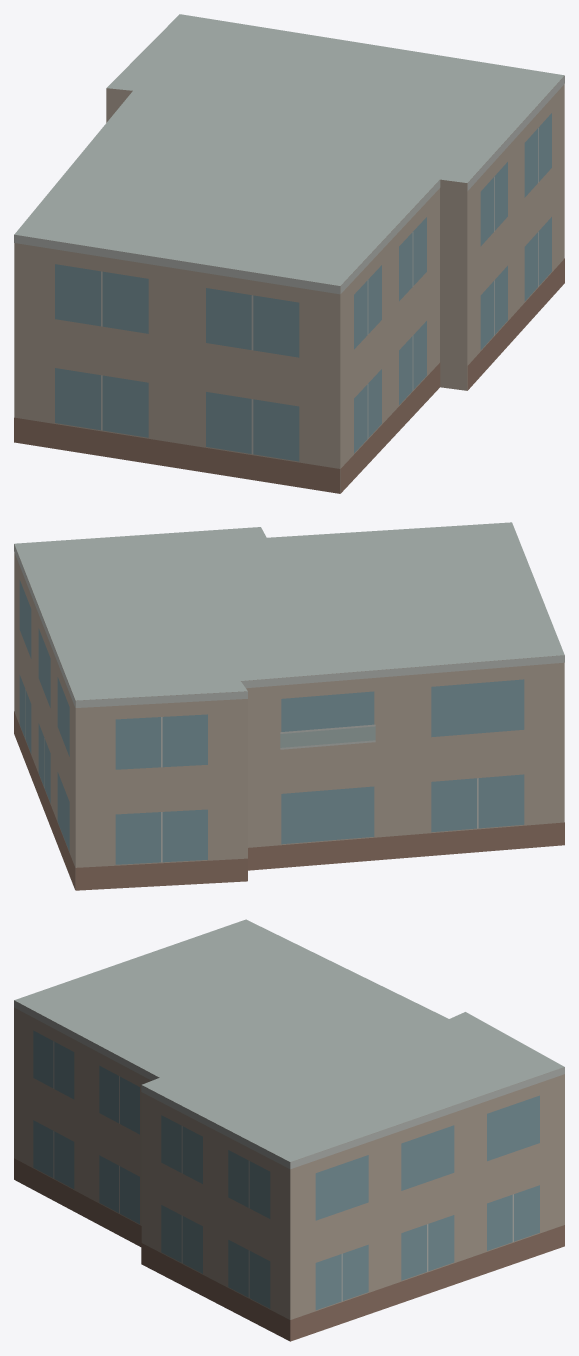
The model's file is survey-upis-32820743.glb.
The picture shows the model from 3 angles, top to bottom: view 1: azimuth 30°, elevation 25°; view 2: azimuth 150°, elevation 25°; view 3: azimuth 270°, elevation 25°; orthographic projection. The views are drawn at different scales.
Visible parts, largest first — view 1: survey-upis-32820743.tmp; view 2: survey-upis-32820743.tmp; view 3: survey-upis-32820743.tmp.
Part boxes in pixels (left/top/right/bottom): survey-upis-32820743.tmp: left=14, top=14, right=564, bottom=493; survey-upis-32820743.tmp: left=14, top=522, right=564, bottom=890; survey-upis-32820743.tmp: left=14, top=919, right=564, bottom=1341.
Bounding box in the file's own units: 17.72 × 6.1 × 16.98.
